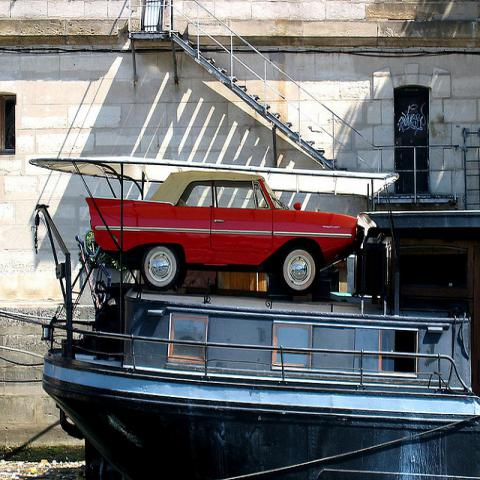car: (85, 170, 359, 294)
